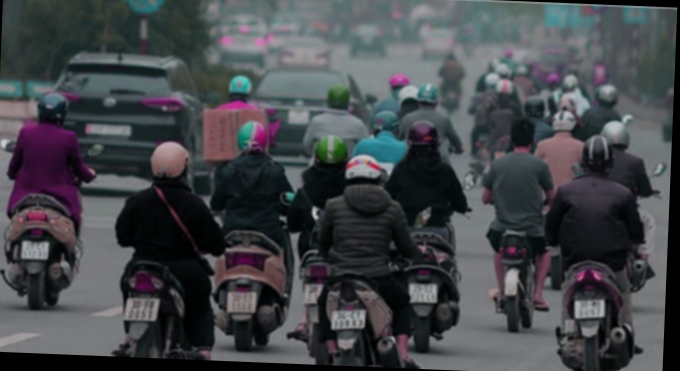Bien-so: (121, 297, 155, 324), (326, 313, 361, 337), (223, 293, 254, 319), (568, 307, 600, 331), (90, 125, 132, 141), (19, 240, 47, 263), (404, 289, 433, 309), (297, 288, 320, 311)
